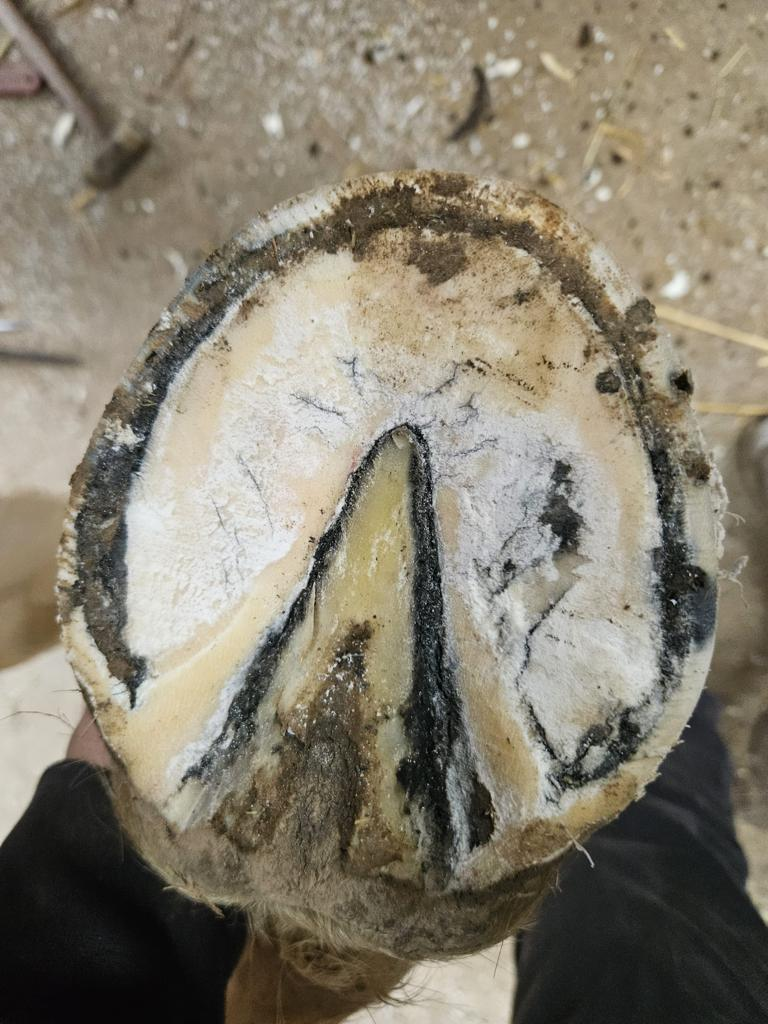horsesole: (57, 171, 722, 874)
